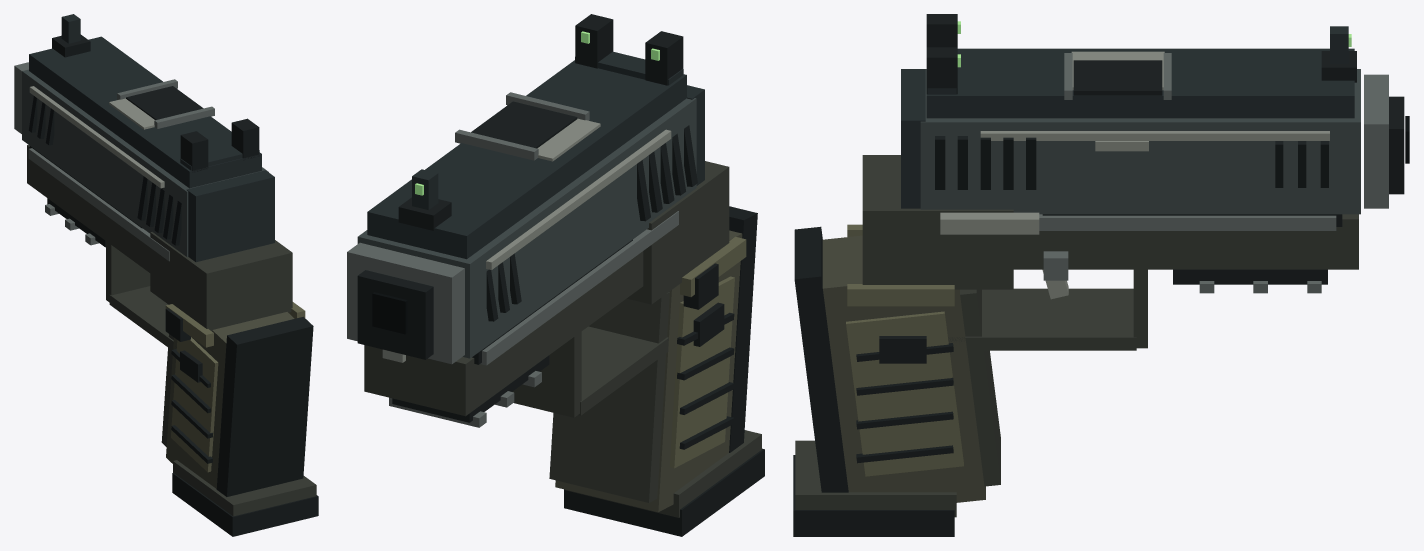
3 renders of one model, left to right at view 1: azimuth 30°, elevation 25°; view 2: azimuth 150°, elevation 25°; view 3: azimuth 270°, elevation 25°, orthographic. The views are drawn at different scales.
Parts seen in each view (by area): view 1: Merged_material (×6), slide slab, grip body; view 2: Merged_material (×6), slide slab, grip body, bore recess; view 3: Merged_material (×6), slide slab, grip body.
Boxes of the visible parts, box(x1,y1,x2,y2) form: Merged_material (×6): box(14, 14, 318, 536); slide slab: box(22, 69, 268, 257); grip body: box(166, 312, 294, 488); Merged_material (×6): box(347, 14, 764, 536); slide slab: box(357, 98, 696, 358); grip body: box(555, 230, 742, 512); bore recess: box(372, 292, 407, 334); Merged_material (×6): box(793, 14, 1404, 536); slide slab: box(920, 69, 1360, 214); grip body: box(822, 235, 985, 502).
Size of the model in its own units: 0.079 by 0.2585 by 0.298.
